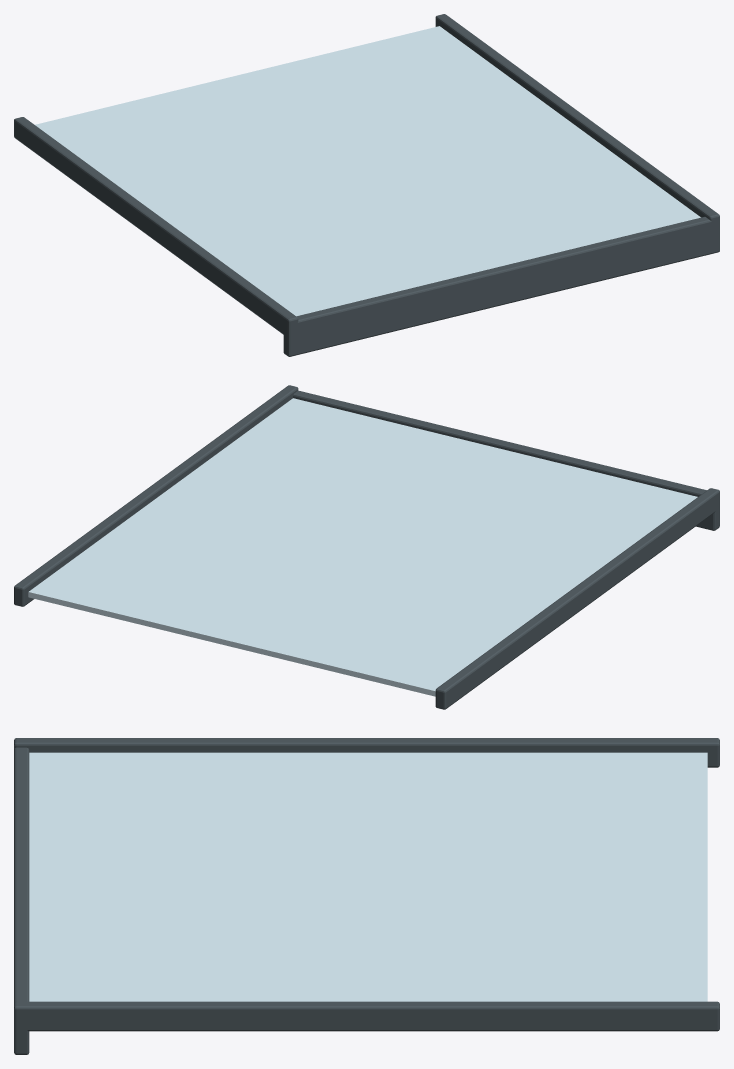
The model's file is SKYLIGHT.glb.
3 views of the same model, one above another, from view 1: azimuth 30°, elevation 25°; view 2: azimuth 150°, elevation 25°; view 3: azimuth 270°, elevation 25° (orthographic). The views are drawn at different scales.
Visible parts, largest first — view 1: Skylight glass, Skylight transom, Skylight edgeL, Skylight edgeR; view 2: Skylight glass, Skylight edgeL, Skylight edgeR, Skylight transom; view 3: Skylight glass, Skylight edgeR, Skylight edgeL, Skylight transom.
Boxes of the visible parts, left/top/right/bottom form: Skylight glass: left=35, top=26, right=700, bottom=316; Skylight transom: left=283, top=216, right=719, bottom=356; Skylight edgeL: left=14, top=117, right=298, bottom=337; Skylight edgeR: left=435, top=14, right=719, bottom=233; Skylight glass: left=28, top=398, right=697, bottom=696; Skylight edgeL: left=435, top=488, right=719, bottom=709; Skylight edgeR: left=14, top=385, right=298, bottom=606; Skylight transom: left=293, top=390, right=719, bottom=530; Skylight glass: left=29, top=752, right=707, bottom=1001; Skylight edgeR: left=14, top=1001, right=719, bottom=1031; Skylight edgeL: left=14, top=738, right=719, bottom=767; Skylight transom: left=14, top=747, right=29, bottom=1054.
Bounding box in the file's own units: 2.08 × 0.175 × 2.3.
